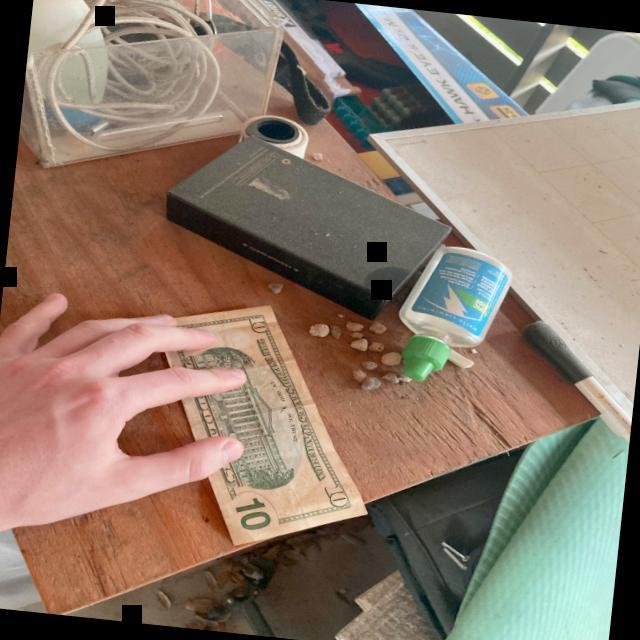ten: (152, 304, 369, 545)
